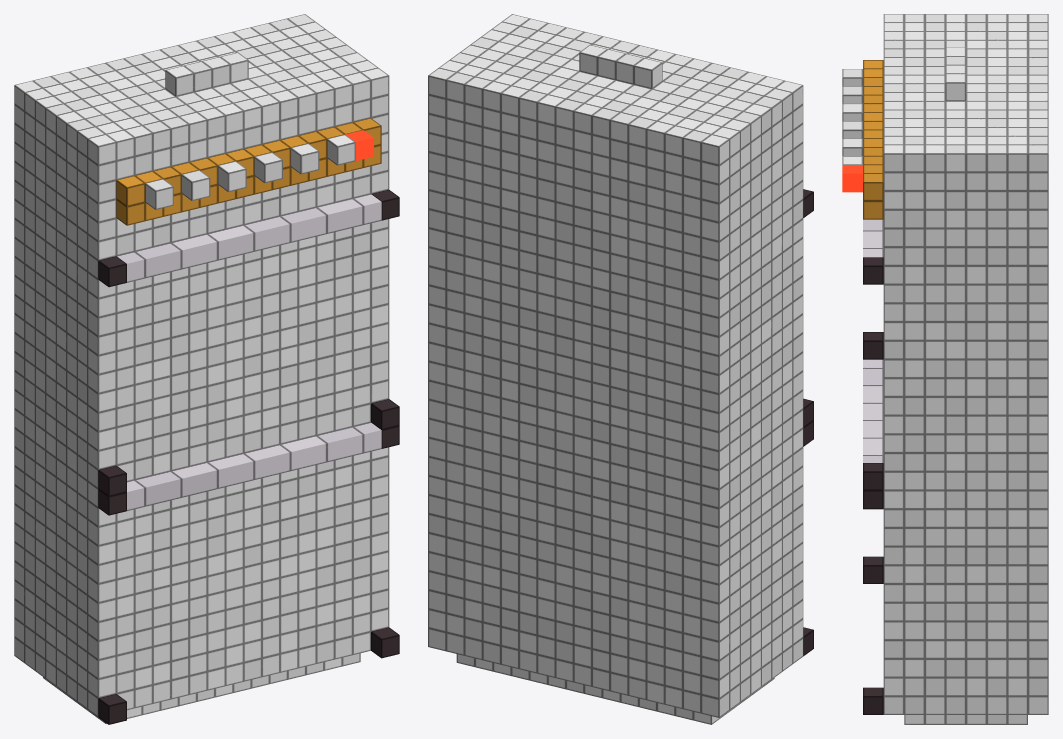
Rendered from amp_stack.glb.
3 views of the same model, side by side, from view 1: azimuth 30°, elevation 25°; view 2: azimuth 150°, elevation 25°; view 3: azimuth 270°, elevation 25° (orthographic).
Parts seen in each view (by area): view 1: amp_stack; view 2: amp_stack; view 3: amp_stack.
Boxes of the visible parts, x1,y1,x2,y2 form: amp_stack: (14, 14, 399, 724); amp_stack: (428, 14, 813, 724); amp_stack: (842, 14, 1048, 724).
Bounding box in the file's own units: 0.8 × 1.6 × 0.5.
Materials: 7 (6 with a texture image).
